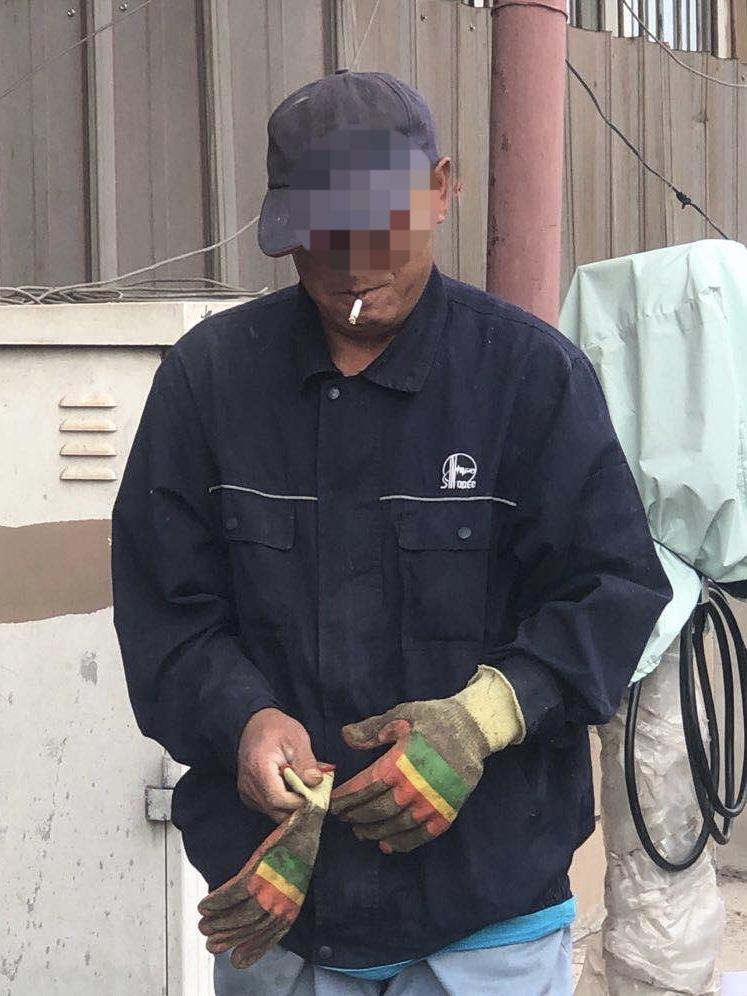smoke: (349, 297, 363, 331)
